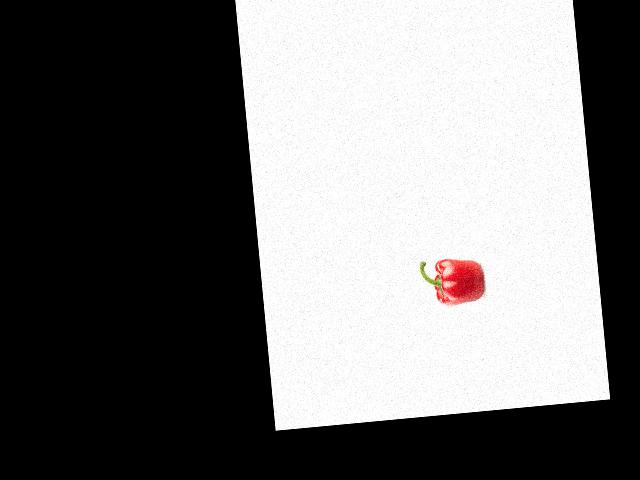bell_pepper: (418, 254, 486, 307)
